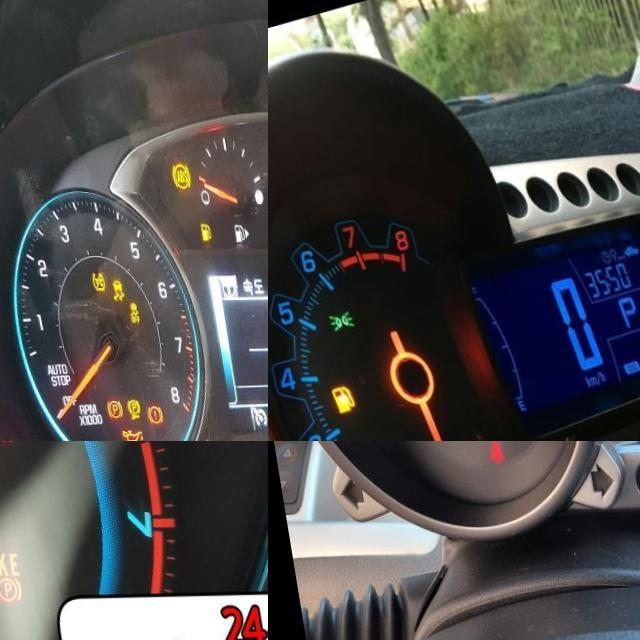Low fuel level: (313, 383, 343, 414), (189, 223, 203, 243)
SideLamp: (313, 309, 343, 332)
